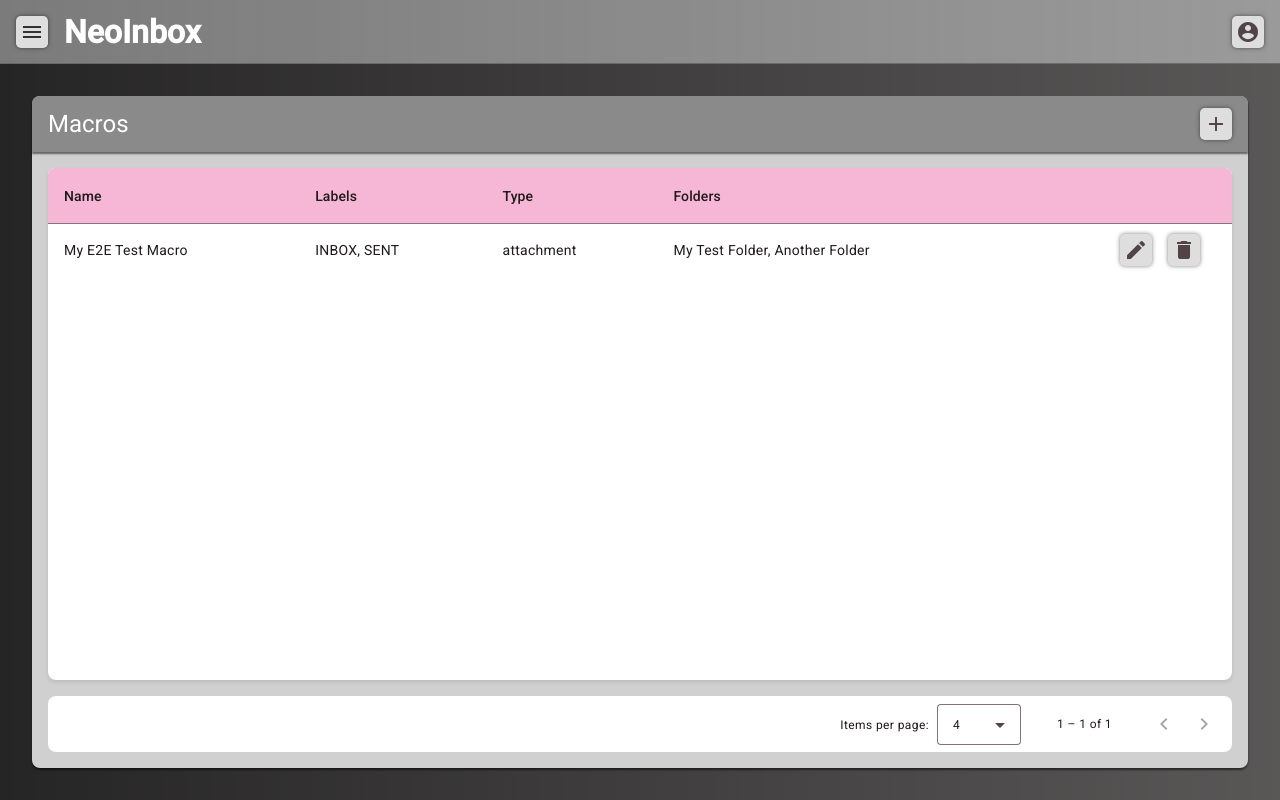
Test: Macro Menu Page › desktop - macbook-13 › Macros Table › should handle macro deletion
Note: Click delete button
Click the button with test id "delete-macro": [1184, 250] box x1=1168 y1=234 x2=1200 y2=266
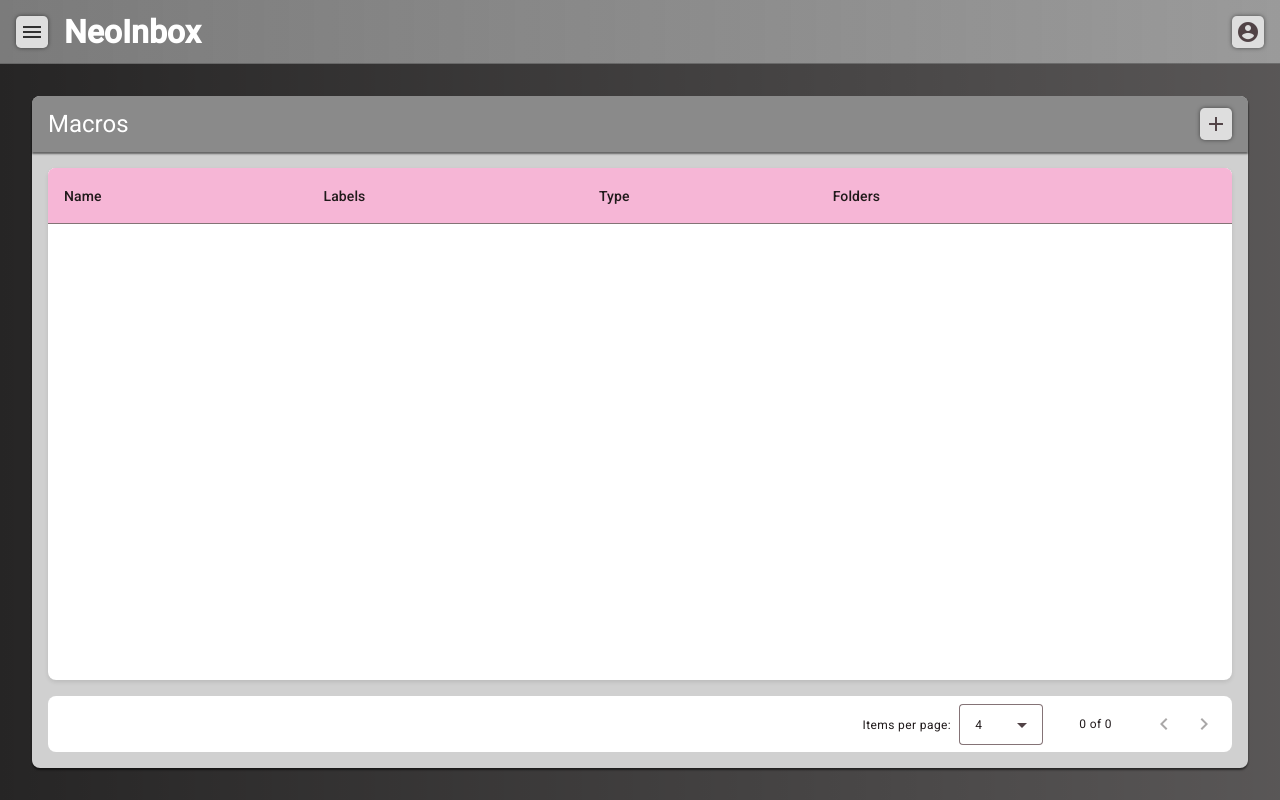
Check: the row with test id "macro-item" is gone
